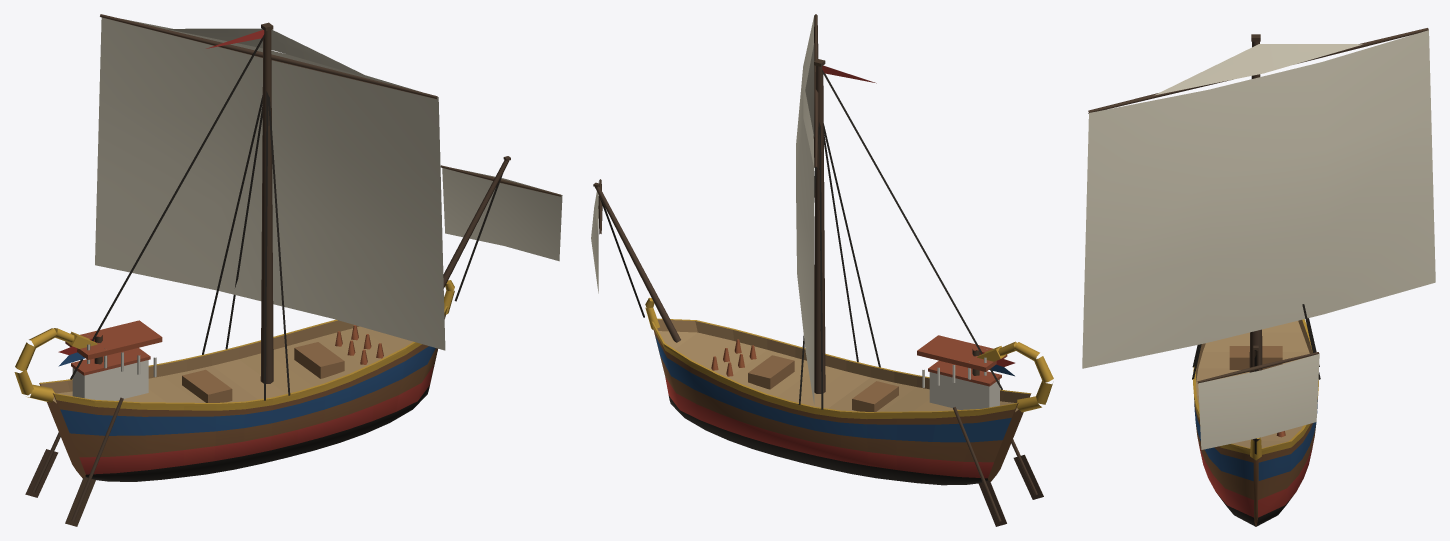
File: hull_usd_grain_flagship.glb
3 renders of one model, left to right at view 1: azimuth 30°, elevation 25°; view 2: azimuth 150°, elevation 25°; view 3: azimuth 270°, elevation 25°, orthographic. The views are drawn at different scales.
Visible parts, largest first — view 1: sail_main, hull, deck, mast, rigging, yards, sail_extra; view 2: hull, deck, sail_main, mast, rigging, yards; view 3: sail_main, hull, sail_extra, yards, deck, mast, rigging.
Boxes of the visible parts, x1,y1,x2,y2 form: sail_main: (95, 17, 562, 350); hull: (14, 280, 454, 481); deck: (25, 320, 383, 526); mast: (94, 22, 510, 383); rigging: (70, 34, 503, 400); yards: (100, 14, 561, 196); sail_extra: (167, 28, 373, 79); hull: (645, 297, 1053, 485); deck: (711, 335, 1043, 526); sail_main: (591, 16, 814, 404); mast: (593, 59, 979, 393); rigging: (599, 70, 1002, 409); yards: (598, 14, 818, 234); sail_main: (1082, 30, 1435, 449); hull: (1193, 319, 1318, 526); sail_extra: (1154, 44, 1362, 95); yards: (1088, 28, 1428, 383); deck: (1229, 346, 1285, 437); mast: (1249, 34, 1262, 441); rigging: (1192, 304, 1320, 454).
Size of the model in its own units: 38.76 by 31.14 by 22.7.
